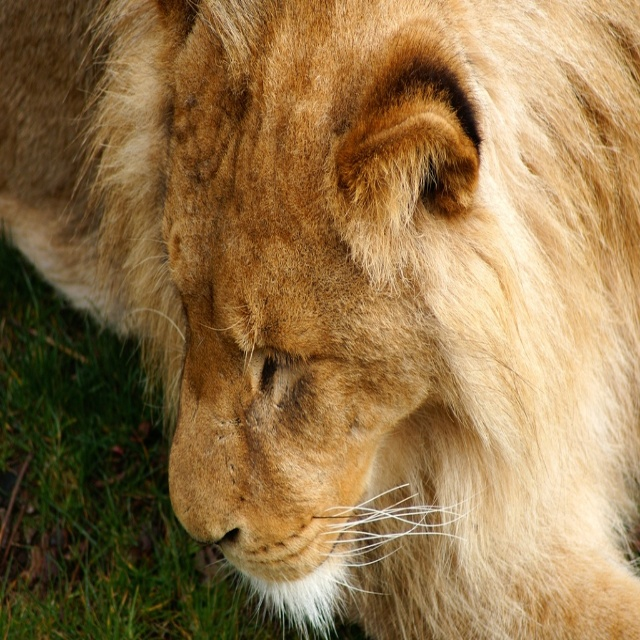Lion: (1, 0, 640, 639)
